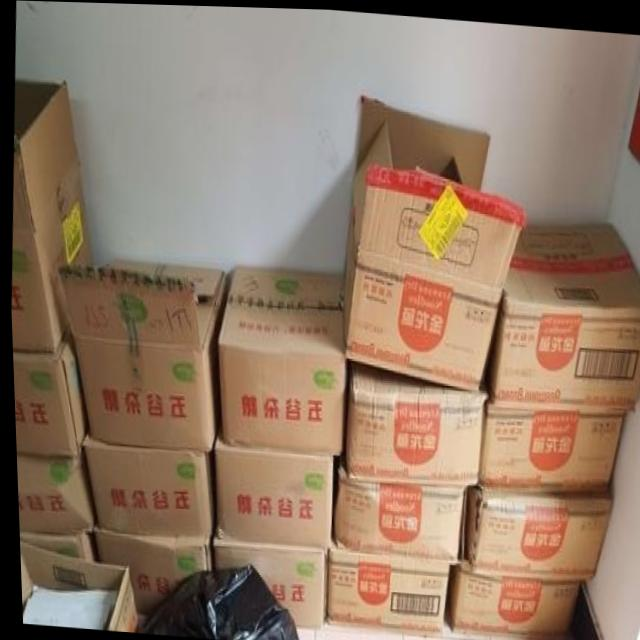box: (341, 91, 526, 388), (56, 258, 226, 448), (483, 219, 640, 408), (215, 265, 344, 452), (9, 76, 94, 351), (342, 361, 485, 479), (212, 421, 329, 547), (474, 397, 622, 489), (461, 484, 610, 575), (81, 435, 212, 536), (329, 464, 463, 559), (323, 536, 446, 628), (16, 539, 133, 632), (209, 534, 322, 625), (10, 325, 85, 456), (443, 561, 575, 635), (91, 529, 208, 612), (13, 447, 92, 531), (16, 533, 92, 559)
